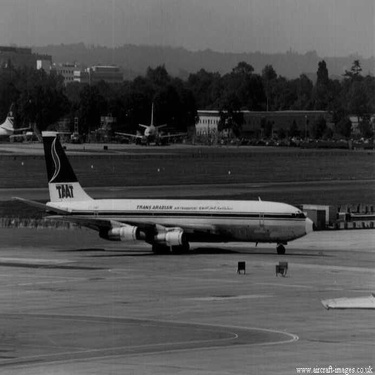airplane: (26, 123, 324, 255), (112, 100, 192, 150), (1, 104, 39, 142)
